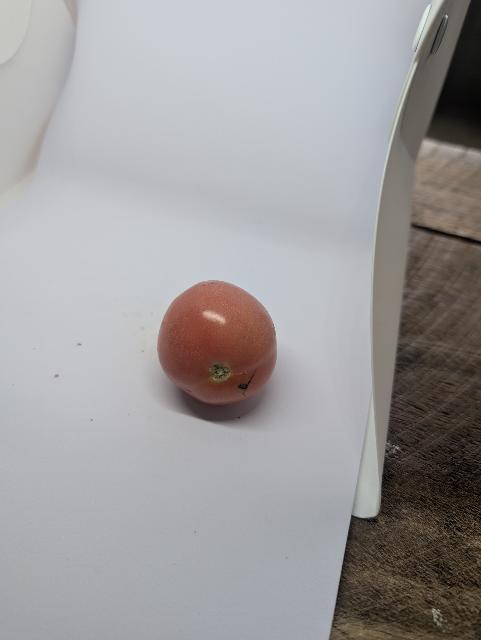red: (155, 278, 280, 407)
